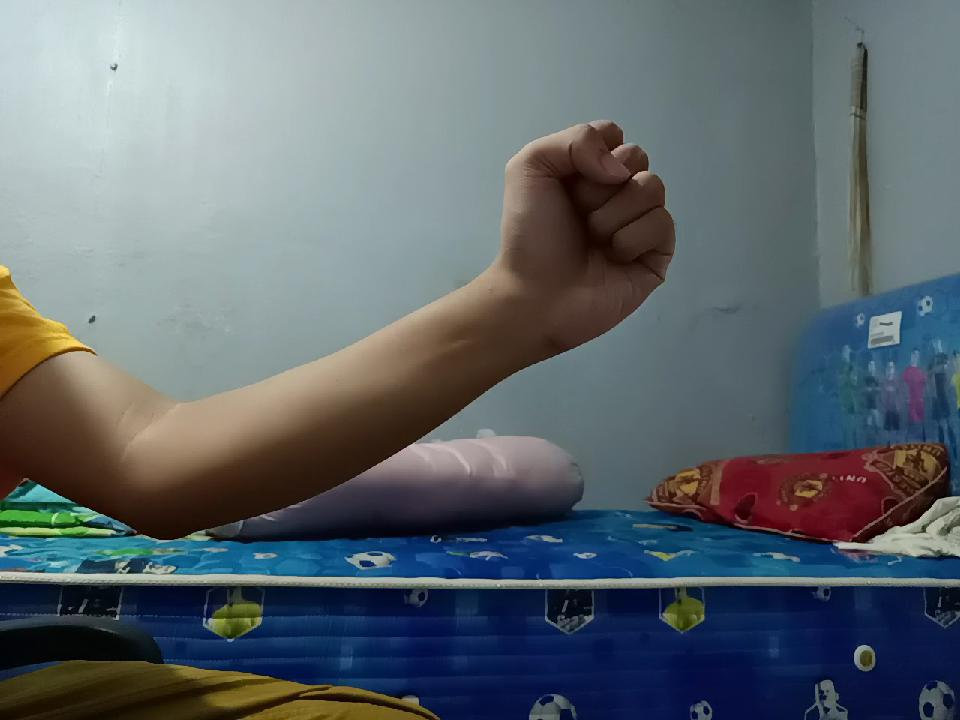rock: (486, 107, 688, 361)
